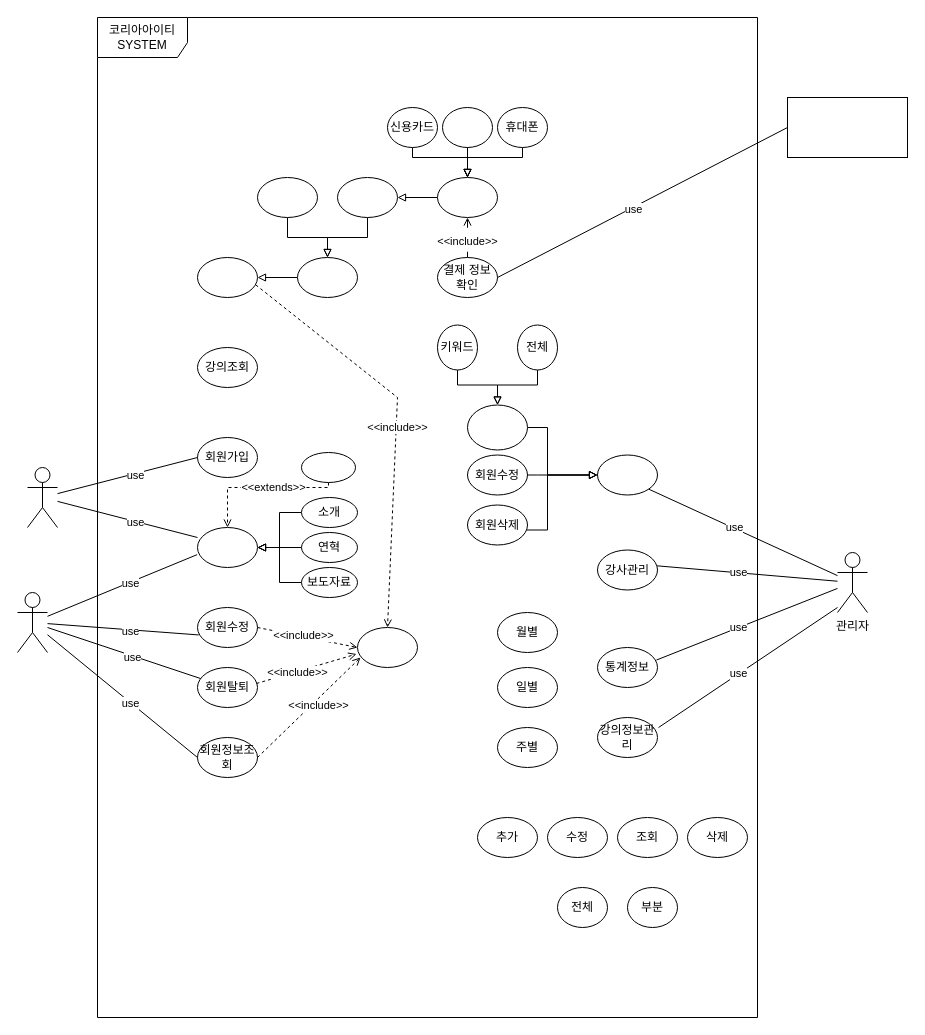
This 925x1035 diagram has some shape labels left out. Each missing label, with the centre of its shape:
"강의상세 조회" goes at pixel 327 277.
"결제 요청" goes at pixel 367 197.
"결제방식" goes at pixel 467 197.
"결제시스템" goes at pixel 847 127.
"로그인" goes at pixel 387 647.
"무통장" goes at pixel 467 127.
"비회원" goes at pixel 42 497.
"수강료 조회" goes at pixel 328 467.
"수강신청" goes at pixel 227 277.
"장바구니" goes at pixel 287 197.
"학원소개" goes at pixel 227 547.
"회원" goes at pixel 32 622.
"회원관리" goes at pixel 627 474.
"회원조회" goes at pixel 497 427.
